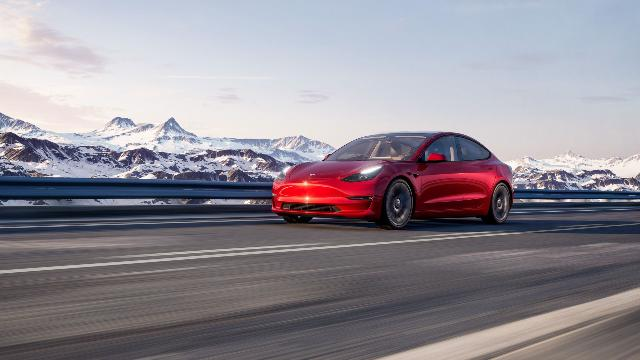tesla: (270, 131, 514, 229)
